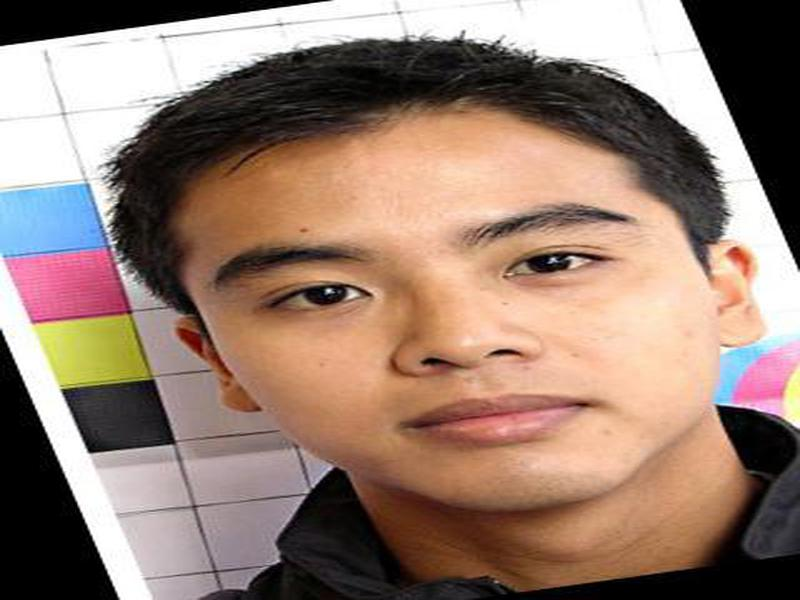without_mask: (178, 127, 714, 514)
